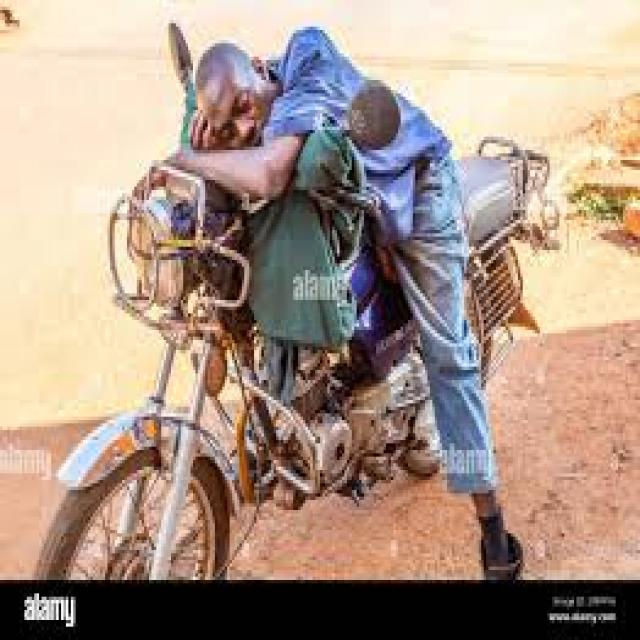bodaboda: (12, 0, 581, 583)
